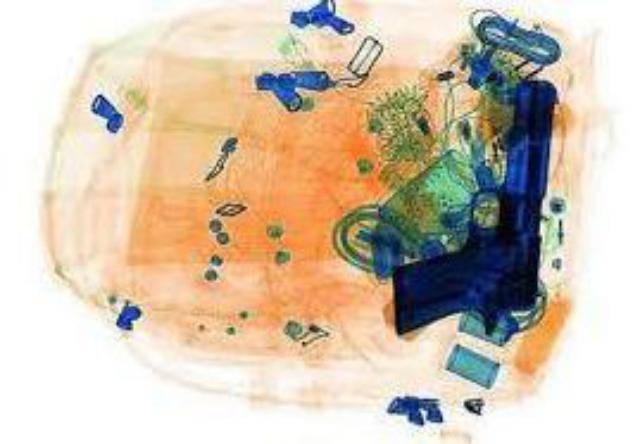Gun: (384, 75, 556, 330)
